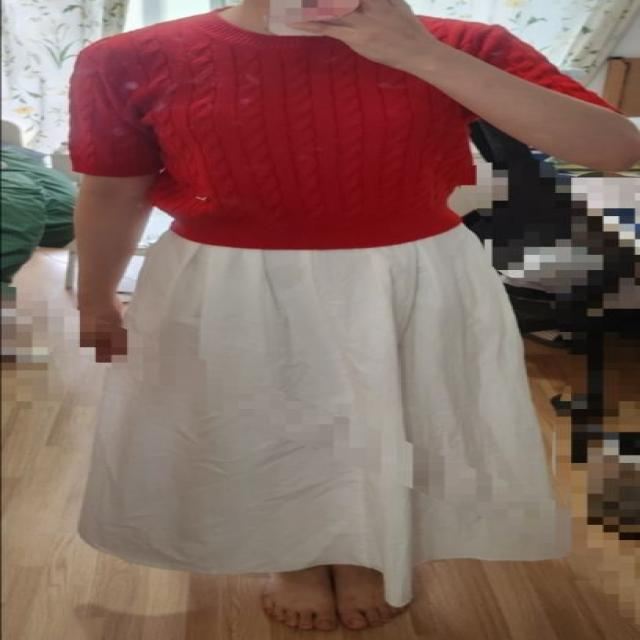skirt: (75, 228, 572, 610)
sweater: (68, 6, 618, 252)
